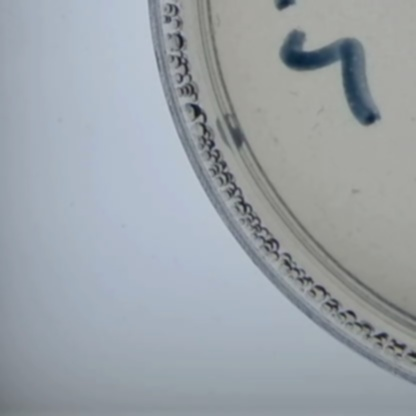worm: (210, 10, 233, 35), (285, 87, 309, 105), (313, 103, 330, 124), (308, 120, 323, 133)
